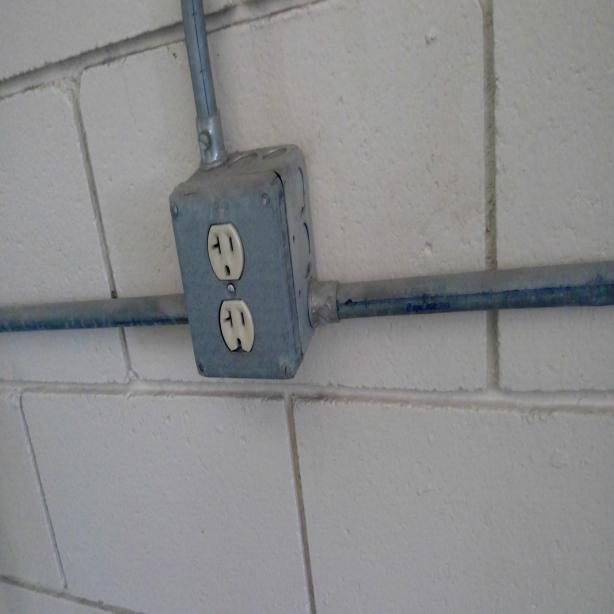typeb: (206, 218, 245, 290), (217, 300, 253, 358)
